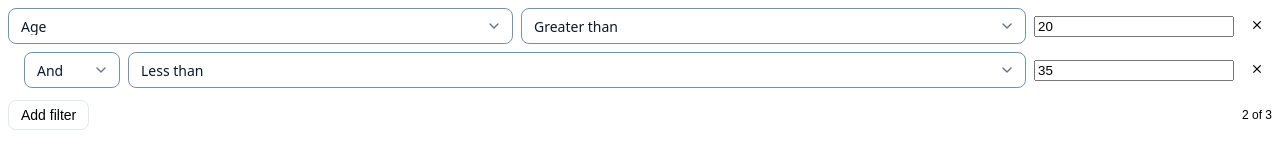
Scenario: DataFilter › hides the second value editor for nullish second operators
Expected: the number of number fields named "Age" is 2, [1034,16,1234,36]; [1034,60,1234,80]
Step 1. Select "Is null" in the dropdown named "Condition 1 second operator" → (577, 70), box [128,52,1026,88]
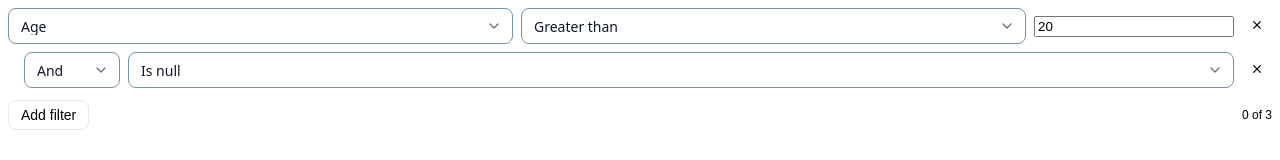
Expected: the number of number fields named "Age" is 1, [1034,16,1234,36]
